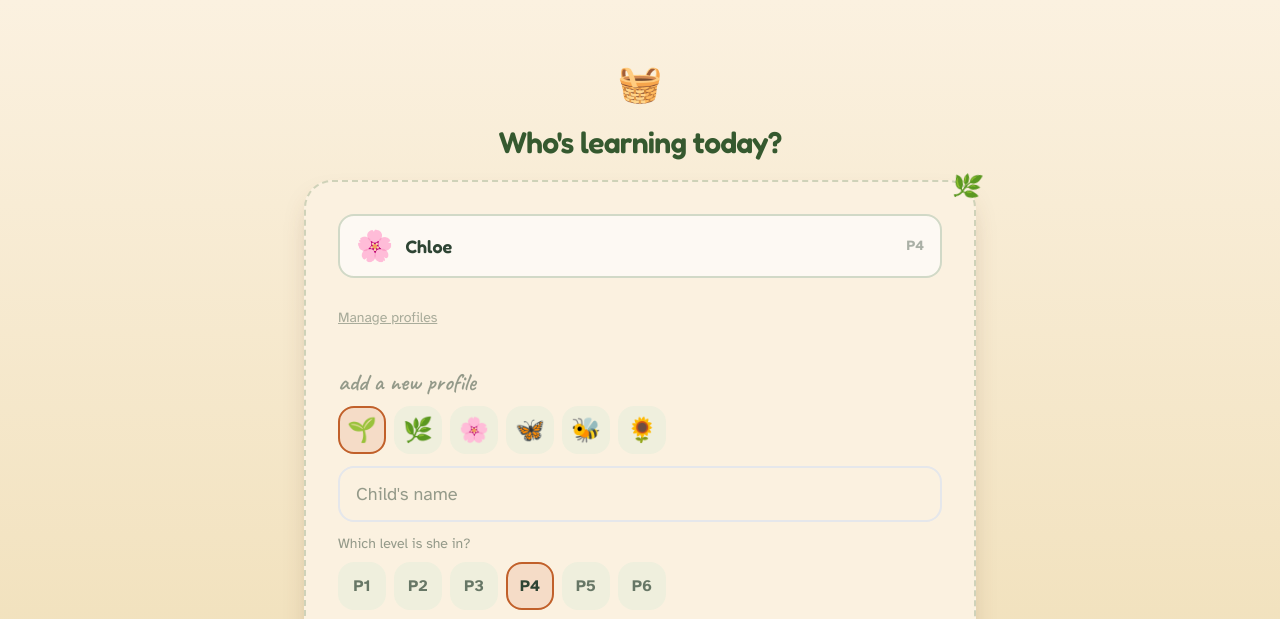
Test: ChildPicker › regression: Cancel on the edit panel discards changes
Expected: the text "Chloe" is shown, [405, 232, 452, 260]
Click the button "Manage profiles" at (388, 318), box [338, 294, 437, 342]
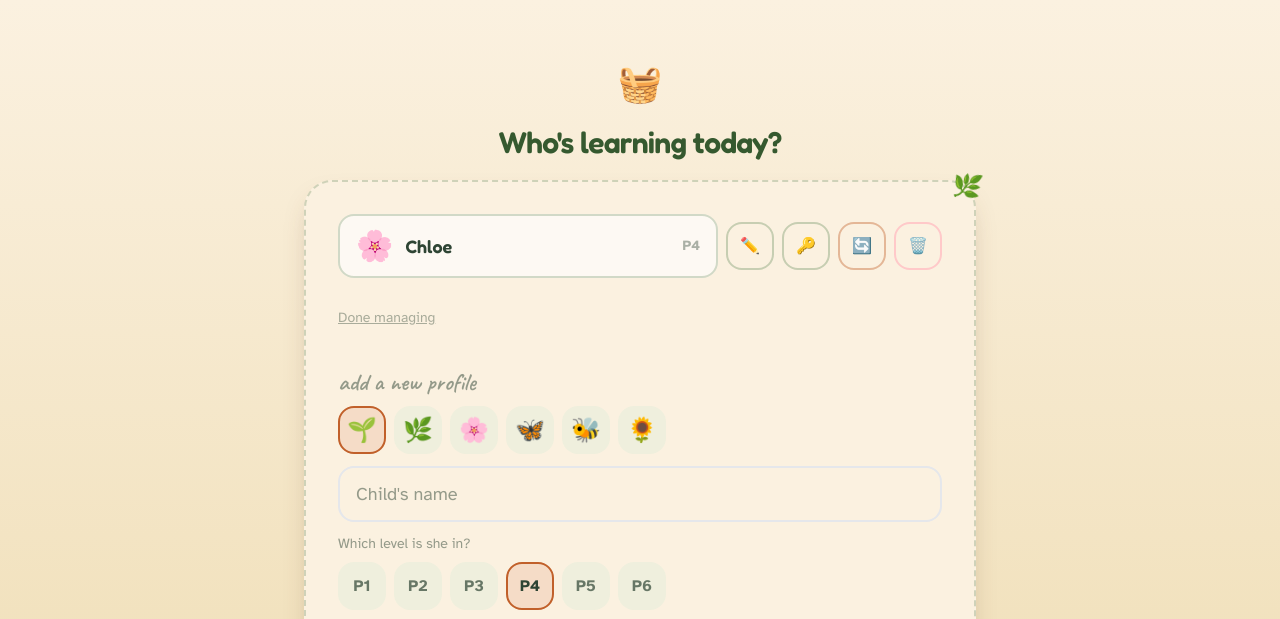
Click the button named "edit chloe" at (750, 246), box [726, 222, 774, 270]
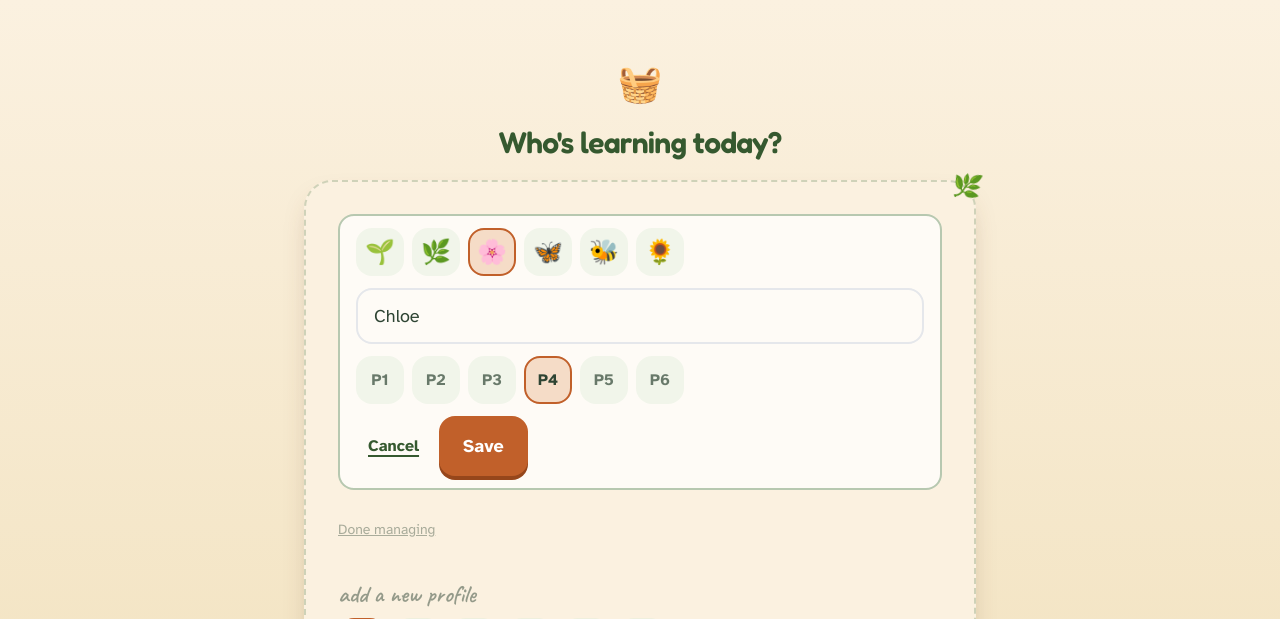
Replace the text in the field with placeholder "Child's name" with "Someone Else" at (640, 316), box [356, 288, 924, 344]
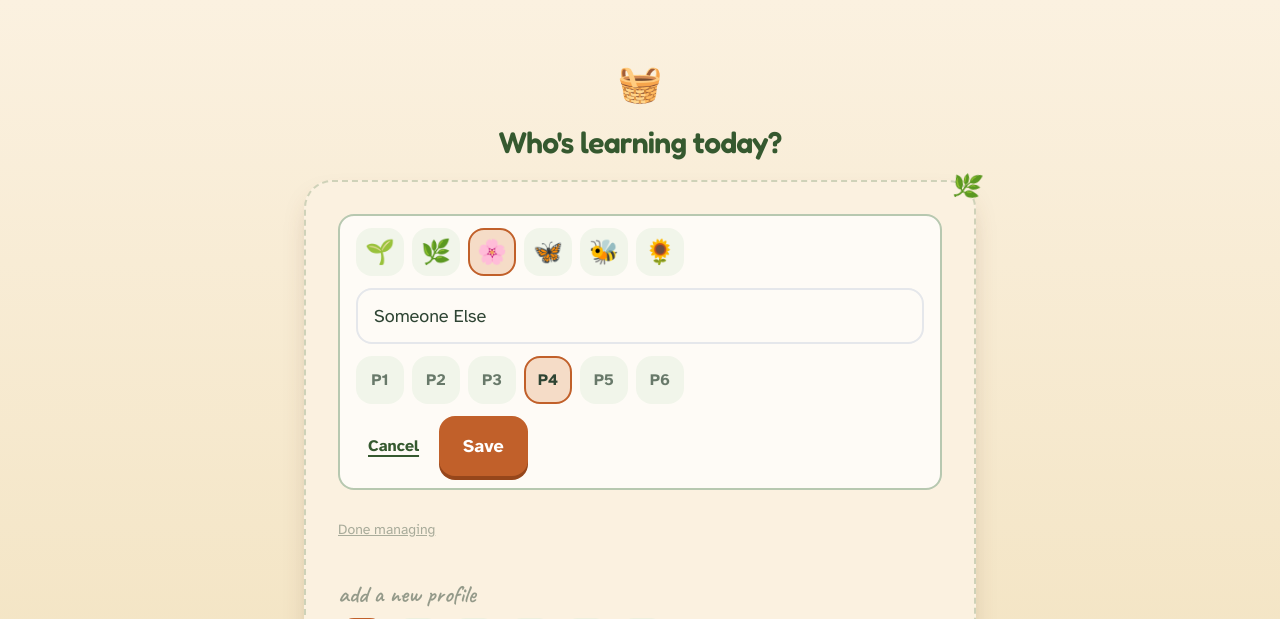
Click the button "Cancel" at (394, 446), box [356, 416, 431, 476]
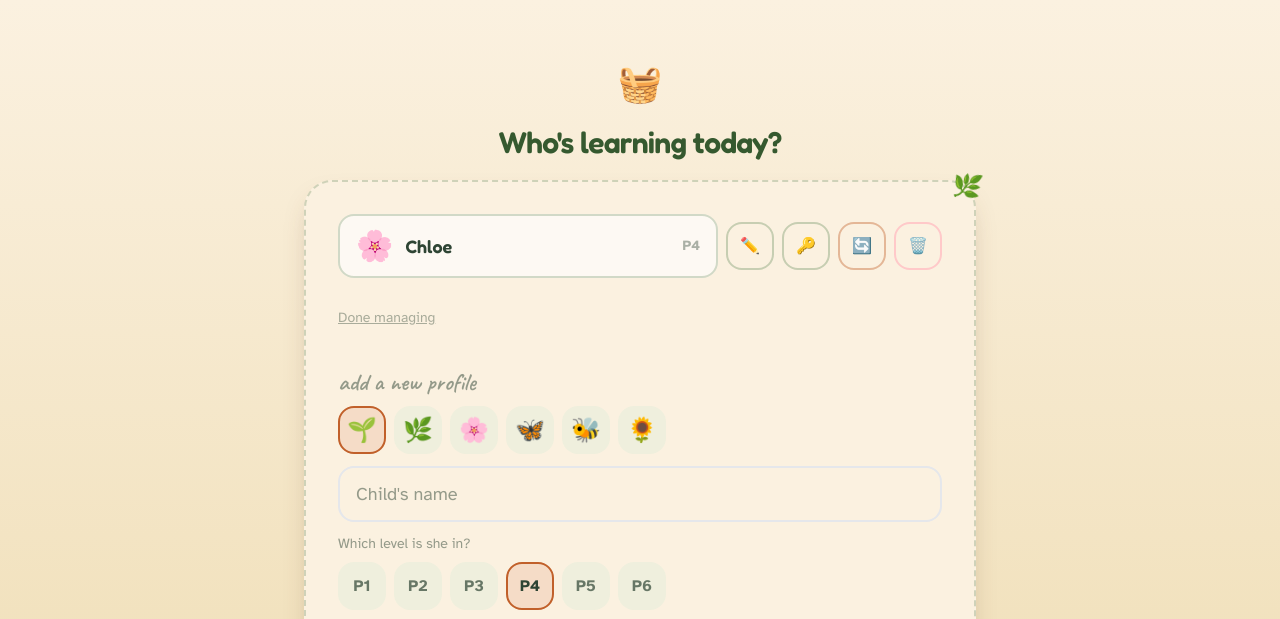
Expected: the text "Someone Else" is not shown
Expected: the text "Chloe" is shown, [405, 232, 452, 260]
